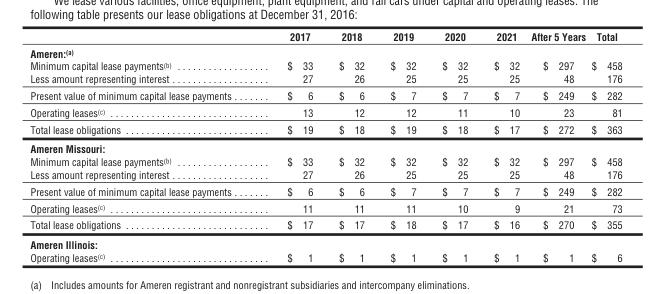table: (29, 29, 621, 263)
table column: (29, 29, 258, 263), (258, 29, 325, 263), (524, 29, 587, 263), (376, 29, 428, 263), (428, 29, 480, 263), (325, 29, 376, 263), (480, 29, 524, 263), (587, 29, 621, 263)
table column header: (29, 29, 621, 44)
table projected row header: (29, 138, 621, 154), (29, 234, 621, 250), (29, 44, 621, 59)
table row: (29, 120, 621, 138), (29, 216, 621, 234), (29, 86, 621, 103), (29, 103, 621, 120), (29, 182, 621, 199), (29, 199, 621, 216), (29, 138, 621, 154), (29, 234, 621, 250), (29, 29, 621, 44), (29, 44, 621, 59), (29, 167, 621, 182), (29, 72, 621, 86), (29, 59, 621, 72), (29, 154, 621, 167), (29, 250, 621, 263)
